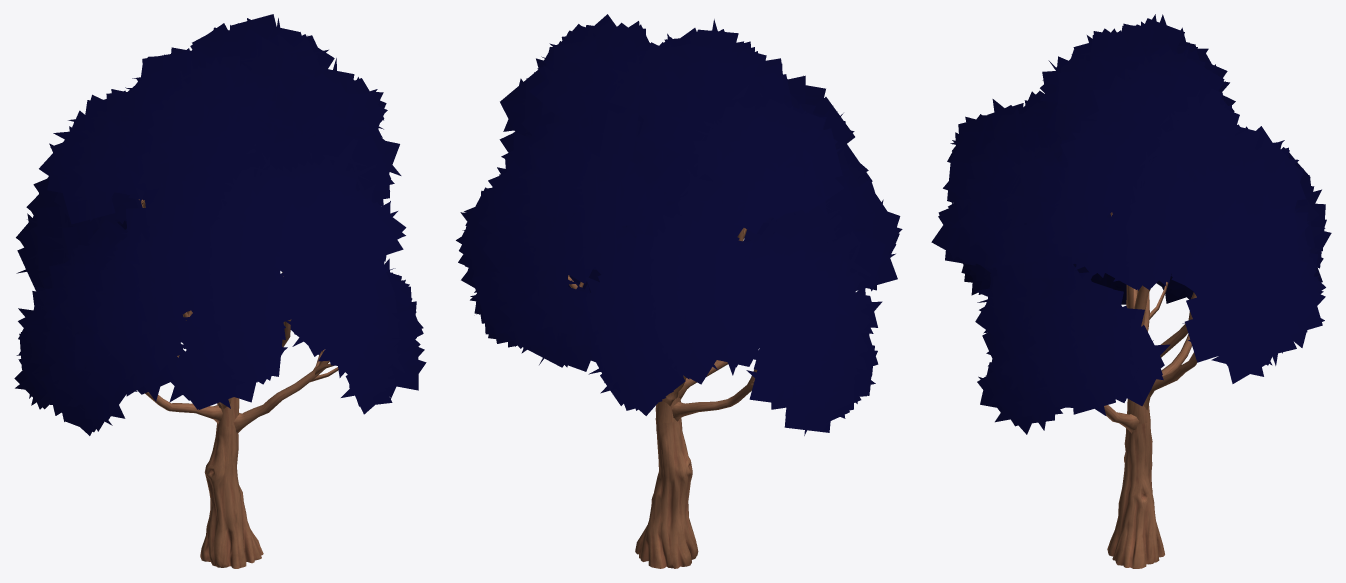
The model's file is SM_OakTree_04.fbx.
The picture shows the model from 3 angles, left to right: view 1: azimuth 30°, elevation 25°; view 2: azimuth 150°, elevation 25°; view 3: azimuth 270°, elevation 25°; orthographic projection. The views are drawn at different scales.
Visible parts, largest first — view 1: SM_OakTree_04_LOD0; view 2: SM_OakTree_04_LOD0; view 3: SM_OakTree_04_LOD0.
Part boxes in pixels (left/top/right/bottom): SM_OakTree_04_LOD0: left=14, top=14, right=426, bottom=568; SM_OakTree_04_LOD0: left=456, top=14, right=902, bottom=568; SM_OakTree_04_LOD0: left=931, top=14, right=1331, bottom=568.
Size of what is drawn, in the model's own units: 789 by 1103 by 782.
